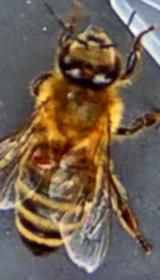varroa_mite: (24, 142, 56, 169)
